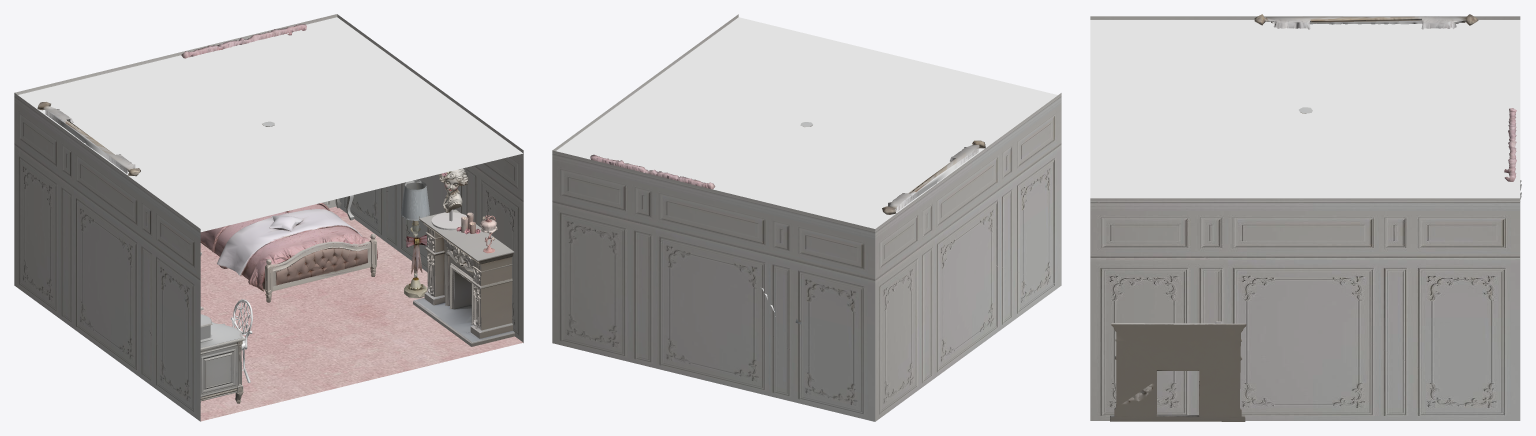
File: pink_bedroom.glb
The picture shows the model from 3 angles, left to right: view 1: azimuth 30°, elevation 25°; view 2: azimuth 150°, elevation 25°; view 3: azimuth 270°, elevation 25°; orthographic projection. The views are drawn at different scales.
Visible parts, largest first — view 1: Plane.002, Plane.001, Plane, node_0.001_jn2_0, Plane.004, node_0.003_jn2_0, node_0.002_jn2_0, node_0.011_jn2_0, node_0.006_jn3_0, Plane.003, node_0.014_jn4_0, Cylinder (+2 smaller); view 2: Plane.003, Plane.002, Plane.001, node_0.006_jn3_0, node_0.014_jn4_0, Plane.004; view 3: Plane.004, Plane.002, node_0.003_jn2_0, node_0.006_jn3_0, Plane.001, node_0.014_jn4_0.
Boxes of the visible parts, bbox=[...] form: Plane.002: bbox=[18, 17, 522, 231]; Plane.001: bbox=[14, 93, 200, 421]; Plane: bbox=[200, 206, 522, 421]; node_0.001_jn2_0: bbox=[200, 203, 377, 302]; Plane.004: bbox=[337, 14, 523, 342]; node_0.003_jn2_0: bbox=[413, 209, 514, 346]; node_0.002_jn2_0: bbox=[200, 307, 245, 403]; node_0.011_jn2_0: bbox=[401, 180, 429, 298]; node_0.006_jn3_0: bbox=[37, 102, 140, 176]; Plane.003: bbox=[15, 14, 337, 208]; node_0.014_jn4_0: bbox=[181, 24, 306, 58]; Cylinder: bbox=[438, 168, 468, 212]; Plane.003: bbox=[552, 150, 875, 421]; Plane.002: bbox=[556, 17, 1057, 228]; Plane.001: bbox=[875, 93, 1061, 421]; node_0.006_jn3_0: bbox=[882, 140, 985, 214]; node_0.014_jn4_0: bbox=[590, 154, 715, 189]; Plane.004: bbox=[553, 14, 738, 150]; Plane.004: bbox=[1090, 198, 1520, 420]; Plane.002: bbox=[1090, 20, 1520, 198]; node_0.003_jn2_0: bbox=[1110, 323, 1246, 421]; node_0.006_jn3_0: bbox=[1254, 14, 1478, 29]; Plane.001: bbox=[1090, 16, 1520, 19]; node_0.014_jn4_0: bbox=[1504, 108, 1516, 181].
Size of the model in its own units: 10.78 by 6.26 by 10.74.
5 materials, 4 textured.
